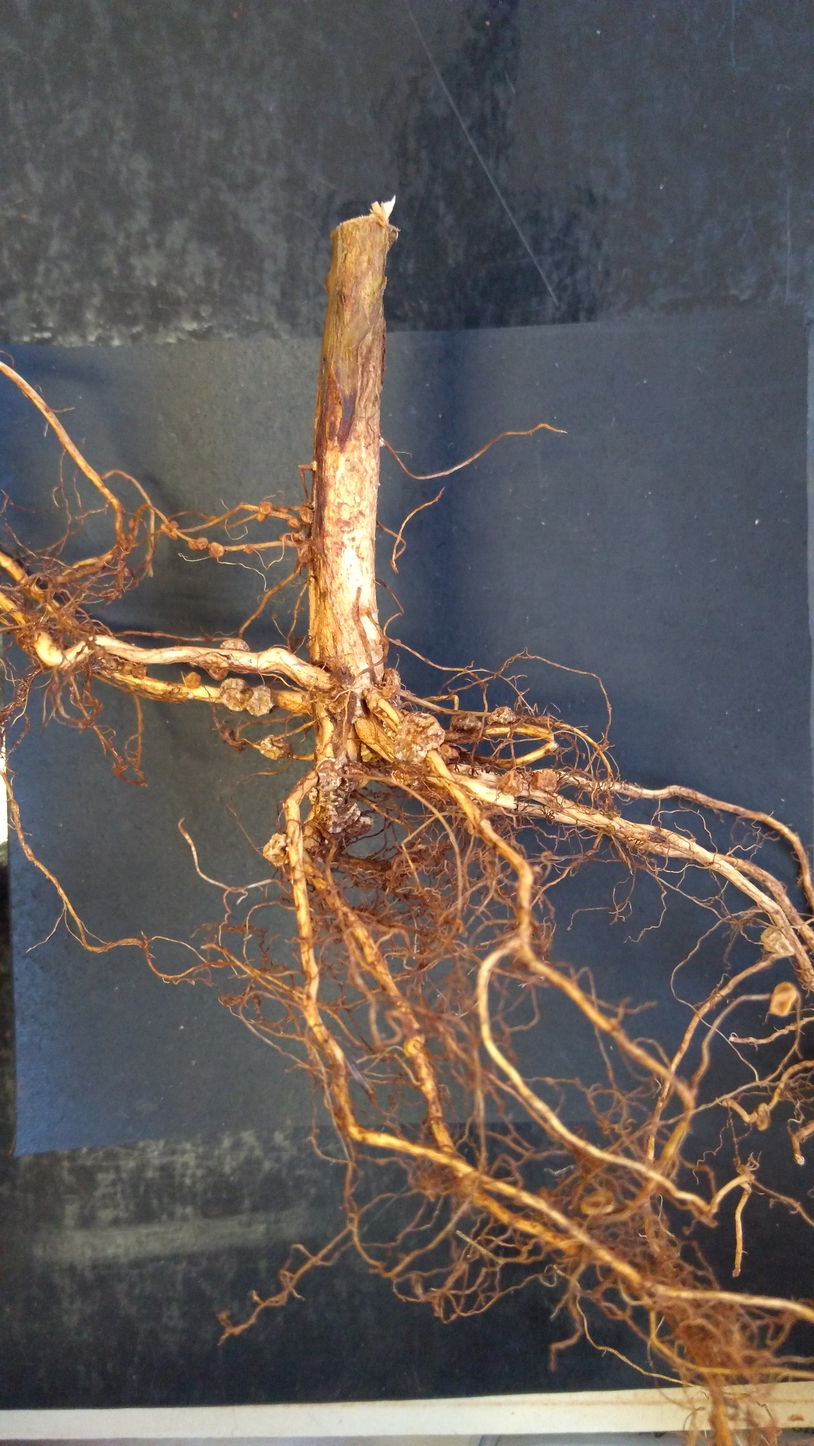nodule: (390, 708, 447, 770), (754, 926, 799, 962), (320, 801, 364, 836), (575, 1187, 623, 1218), (261, 830, 293, 872), (218, 676, 254, 713), (767, 980, 800, 1020), (312, 758, 346, 794), (244, 684, 275, 720), (257, 733, 291, 764), (527, 766, 564, 794), (376, 666, 405, 701), (448, 710, 484, 735), (344, 812, 376, 840), (483, 703, 519, 726), (754, 1099, 775, 1135), (324, 686, 350, 713), (498, 770, 523, 797), (218, 637, 254, 655), (439, 741, 462, 766), (205, 664, 231, 682), (297, 505, 317, 526), (159, 522, 179, 543), (182, 670, 204, 689), (207, 541, 226, 561), (129, 663, 149, 681), (257, 498, 274, 515), (306, 785, 319, 806), (194, 535, 209, 552), (120, 659, 134, 676), (285, 518, 300, 532), (242, 542, 255, 558), (122, 532, 136, 546), (253, 511, 268, 523), (186, 538, 198, 553), (169, 520, 184, 531), (126, 517, 136, 532)
